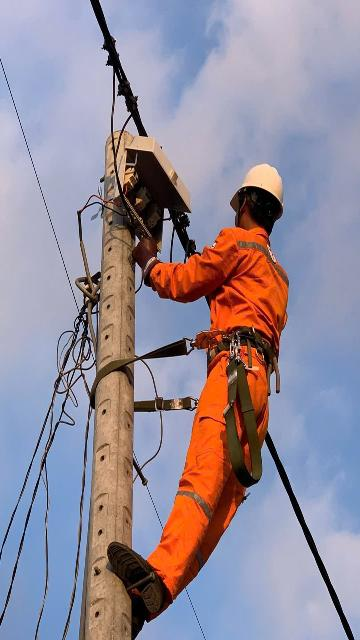gloves: (119, 237, 165, 276)
harness: (166, 315, 302, 388)
helmet: (225, 158, 303, 230)
shoes: (91, 542, 189, 622)
